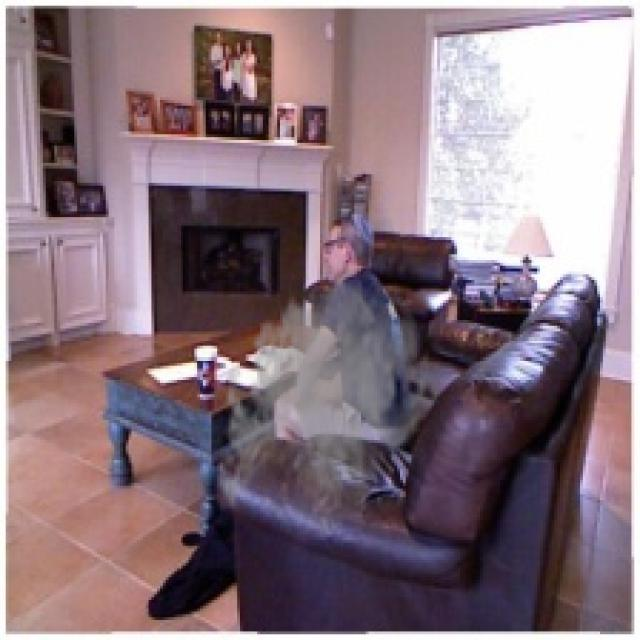smoke: (211, 266, 443, 548)
